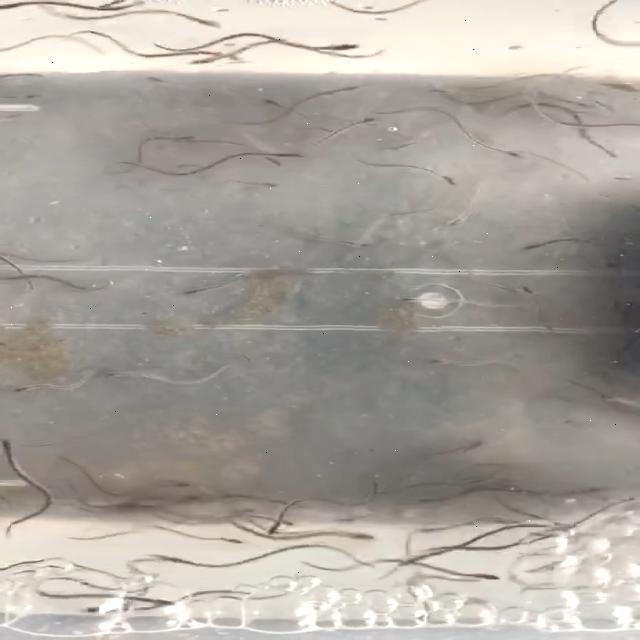active_glass_eel: (181, 10, 230, 30), (318, 36, 366, 54), (399, 520, 452, 536), (0, 434, 30, 460), (11, 378, 53, 396), (335, 528, 382, 544), (184, 51, 230, 67), (520, 238, 566, 254), (84, 600, 124, 618), (592, 138, 624, 160), (457, 436, 495, 454), (178, 281, 223, 296), (132, 72, 171, 88), (349, 114, 388, 130), (516, 277, 542, 301), (340, 238, 378, 254), (205, 49, 247, 63), (433, 169, 461, 190), (466, 568, 508, 582), (255, 94, 287, 112), (103, 369, 143, 383), (498, 146, 532, 162), (262, 512, 300, 526), (446, 206, 468, 230), (264, 514, 286, 538), (200, 534, 244, 546), (92, 0, 144, 10), (417, 492, 457, 505), (394, 293, 433, 306), (9, 88, 45, 102), (335, 514, 370, 528), (378, 142, 418, 154), (424, 358, 464, 370), (421, 84, 453, 98), (262, 149, 304, 159), (240, 178, 282, 188), (253, 152, 285, 165), (572, 97, 604, 110), (158, 479, 194, 489), (170, 134, 200, 144)
